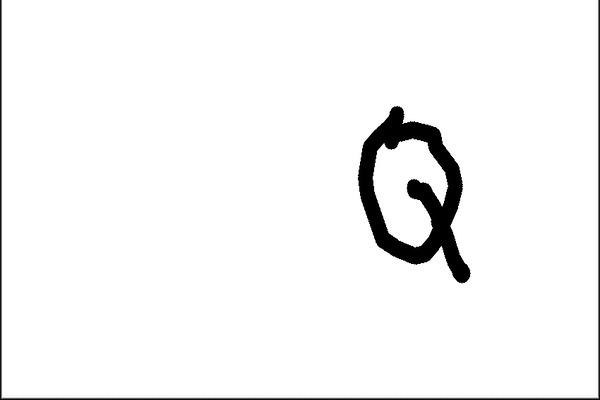Q: (346, 97, 486, 298)
